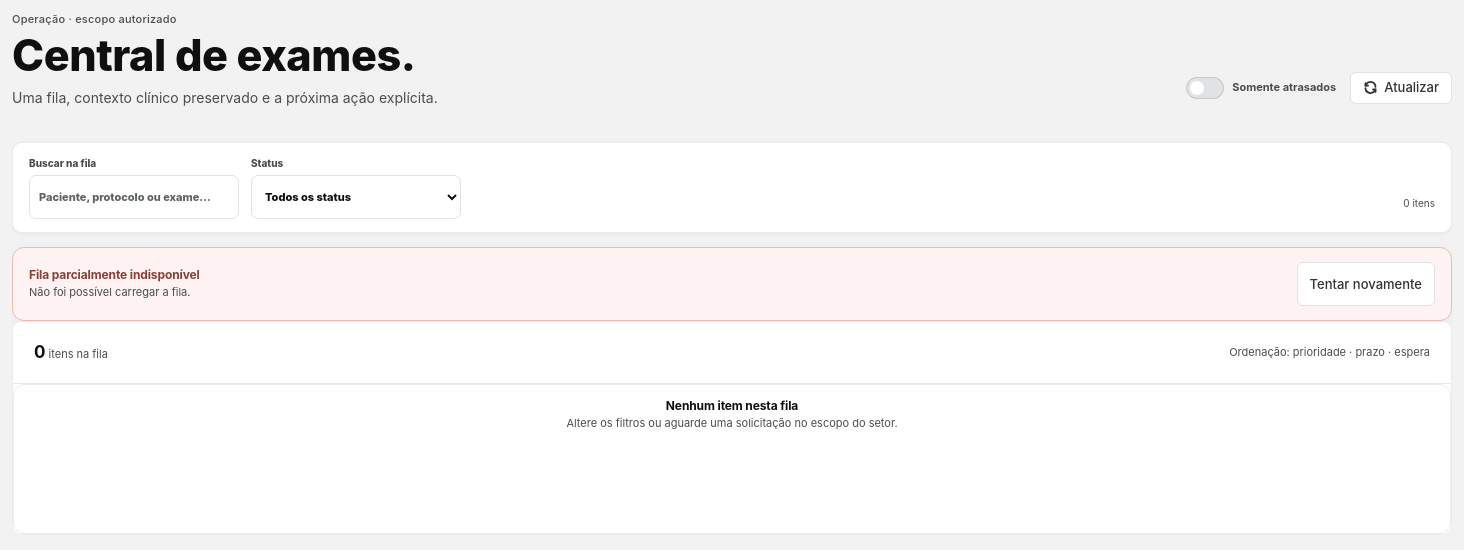
Test: ExamQueue › fails closed when every queue is unavailable and retries after the dependency returns
Expected: the message that starts with "Fila parcialmente indisponível" shows "Não foi possível carregar a fila.", [29, 285, 190, 299]
Step 1. Click the button "Tentar novamente" → {"x": 1366, "y": 284}, box [1297, 262, 1435, 306]
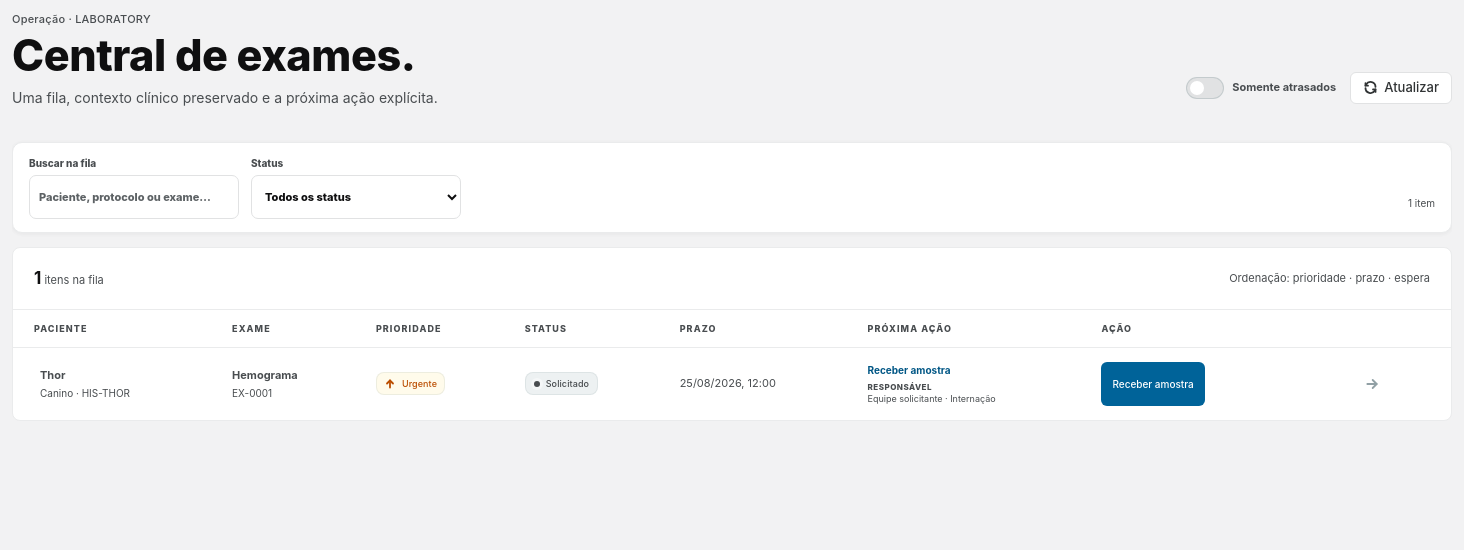
Expected: the text "Thor" is shown, [40, 368, 65, 382]
